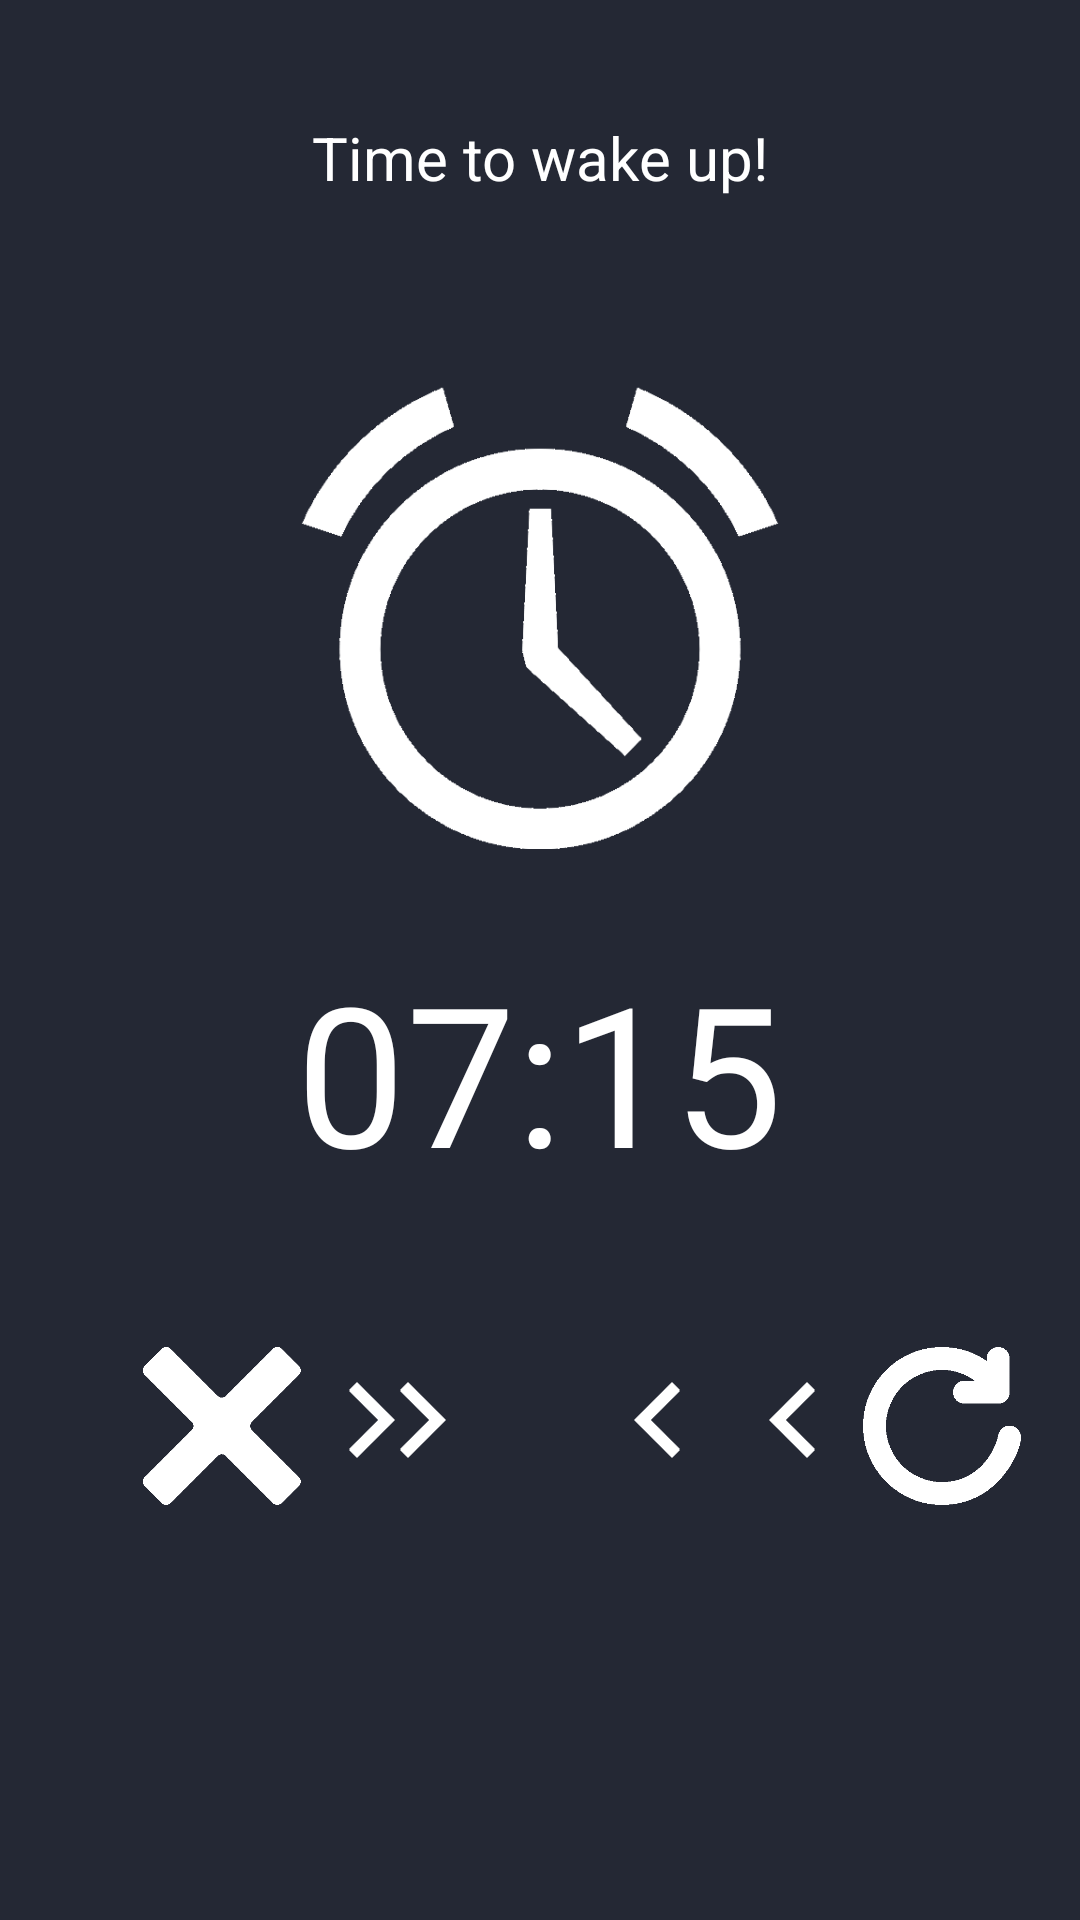

Where icons sit on this 1080x1920 app screen, as (x1, y1, x2, y2):
arrow back: (634, 1382, 680, 1458), (769, 1382, 815, 1458)
cross: (143, 1347, 301, 1505)
refresh: (863, 1347, 1021, 1505)
